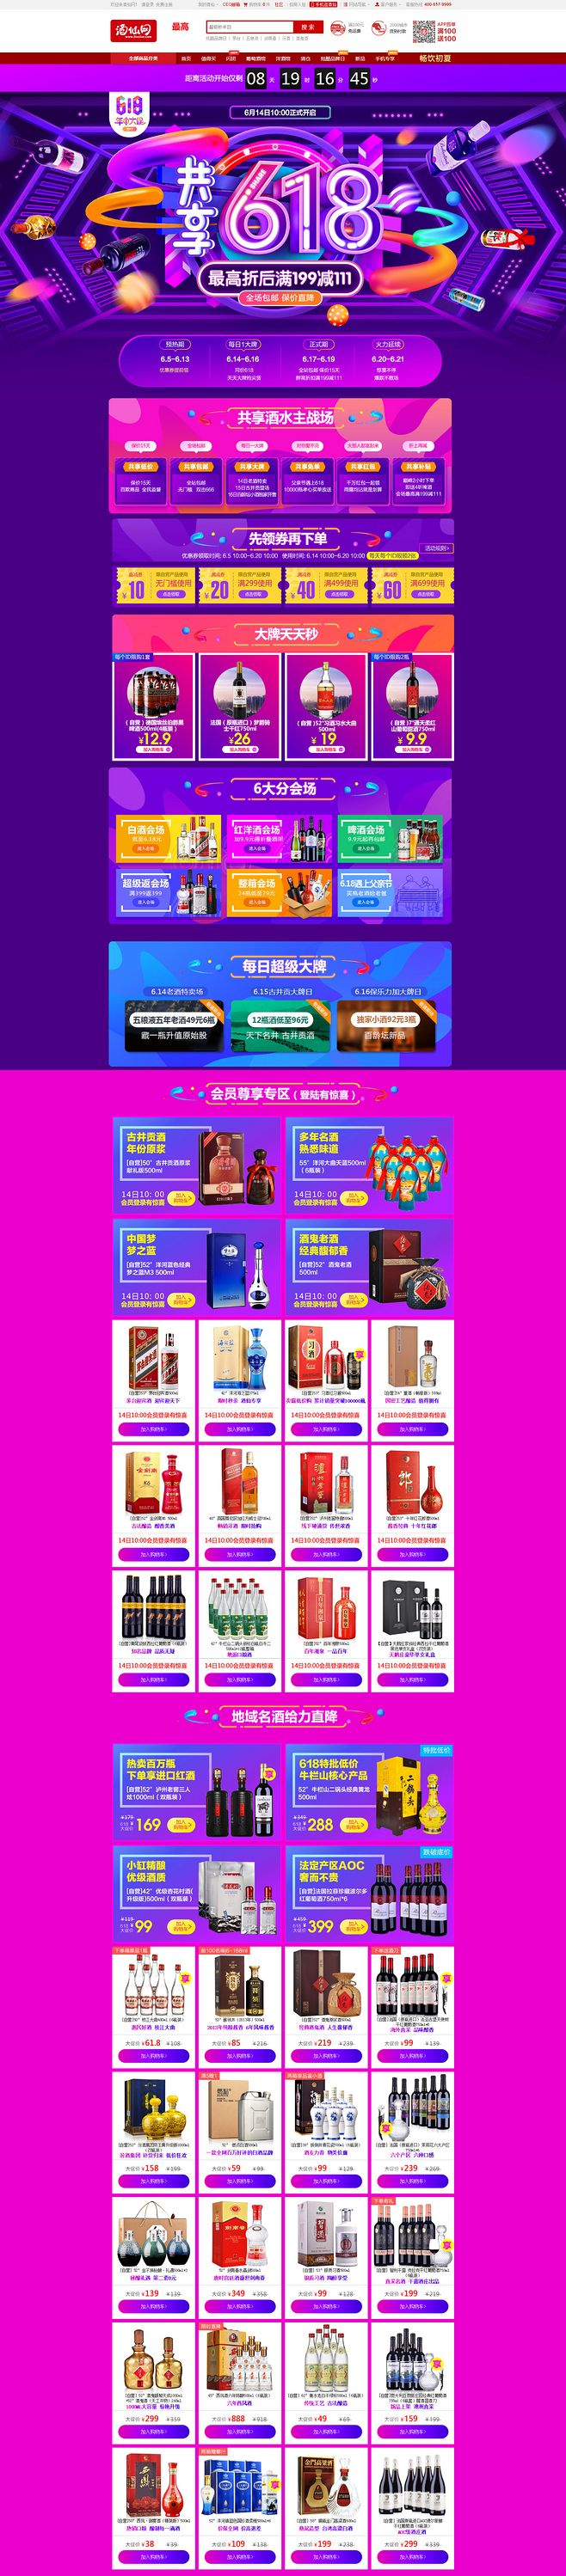floors: (2, 1702, 566, 2576), (2, 1078, 566, 1697), (2, 767, 566, 930), (2, 613, 566, 762), (2, 938, 566, 1069), (2, 396, 566, 514), (2, 517, 566, 605)
toutu: (2, 66, 566, 391)
